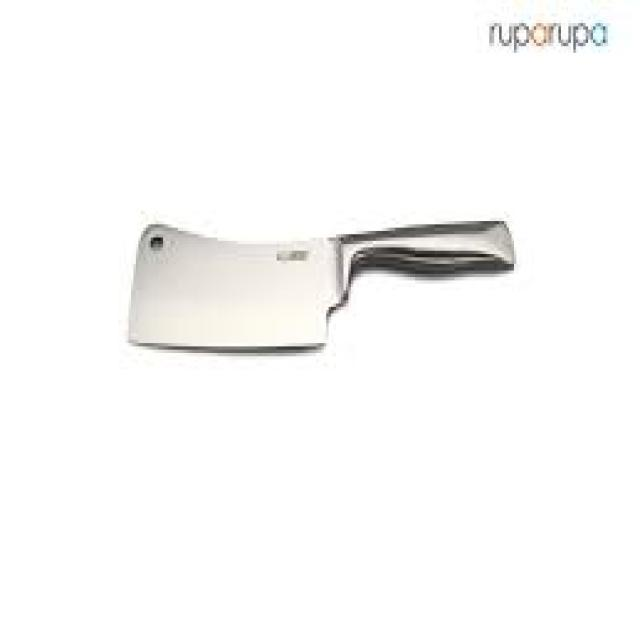Knife: (108, 169, 547, 392)
